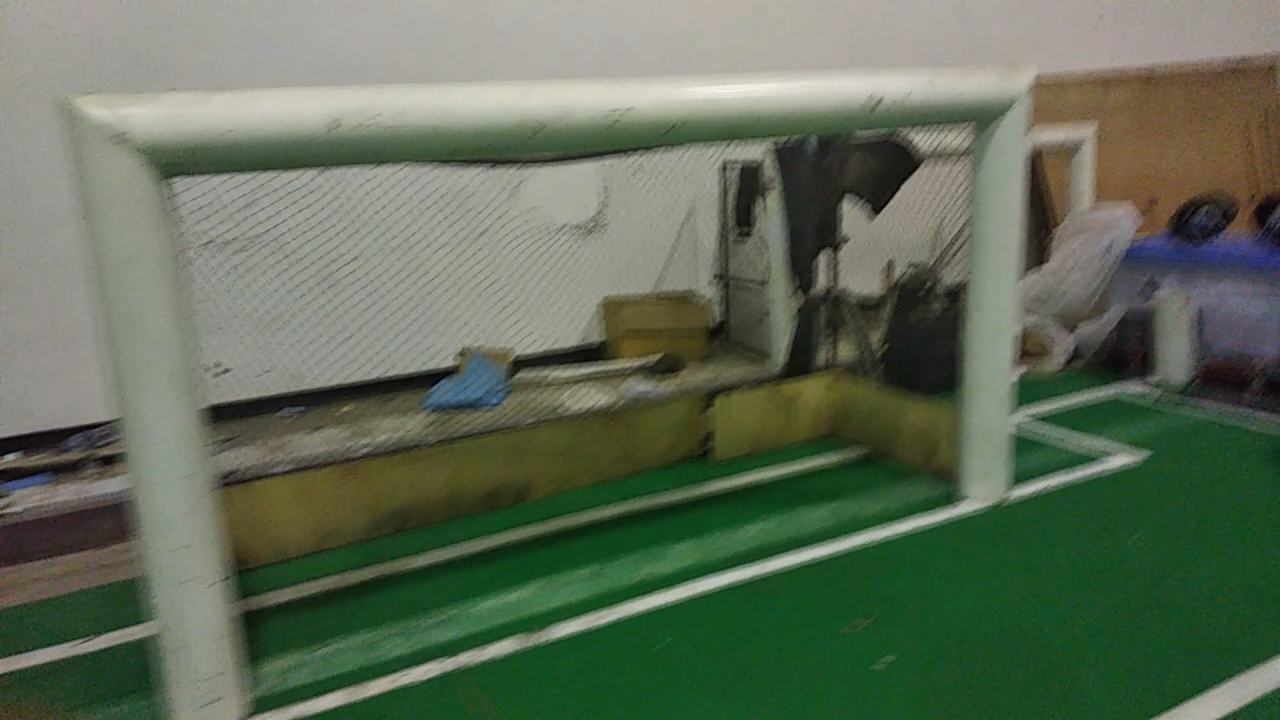gawang: (47, 48, 1041, 711)
